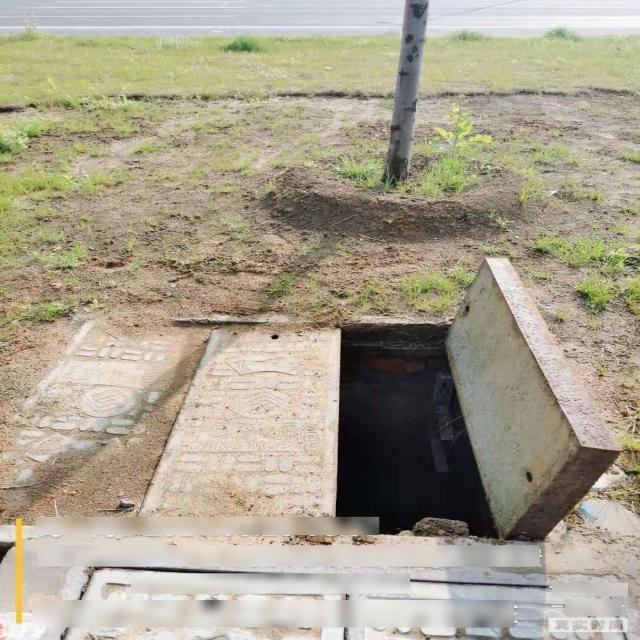Faulty: (5, 261, 632, 563)
